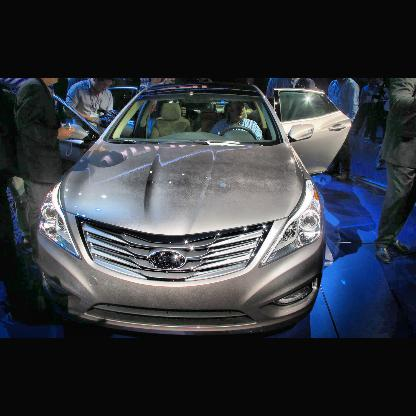Hyundai Azera Sedan 2012: (38, 88, 328, 323)
